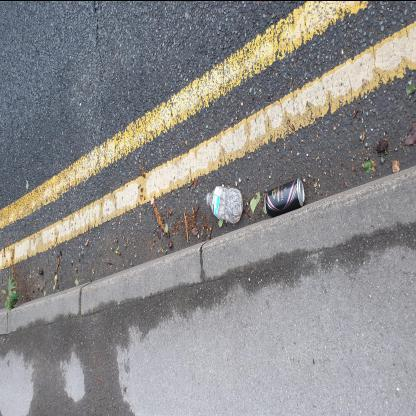metal: (265, 178, 306, 219)
plastik: (207, 186, 244, 224)
